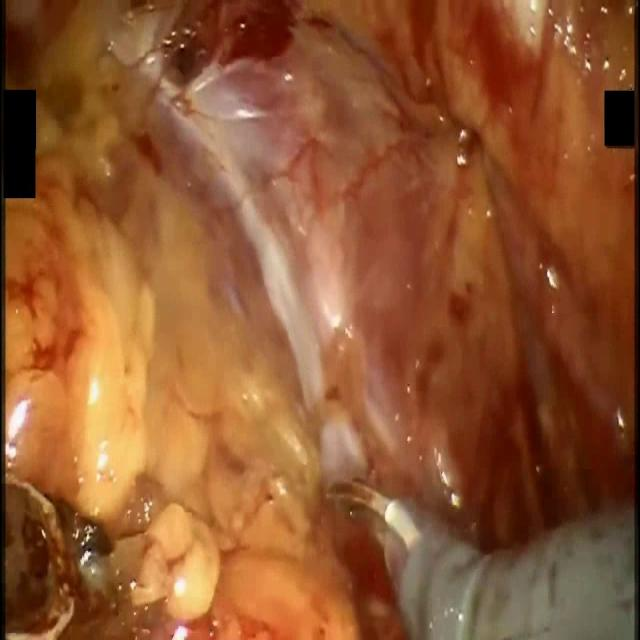surgical-area: (0, 4, 636, 639)
surgical-tool: (320, 471, 640, 639)
